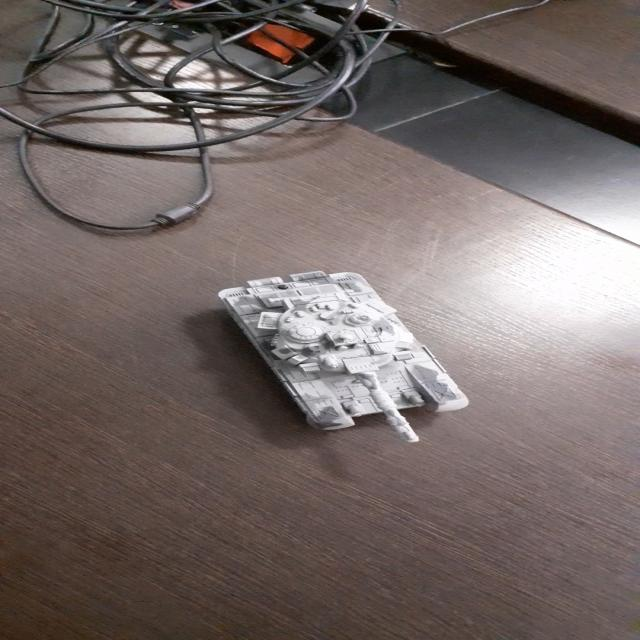tank: (217, 272, 467, 443)
